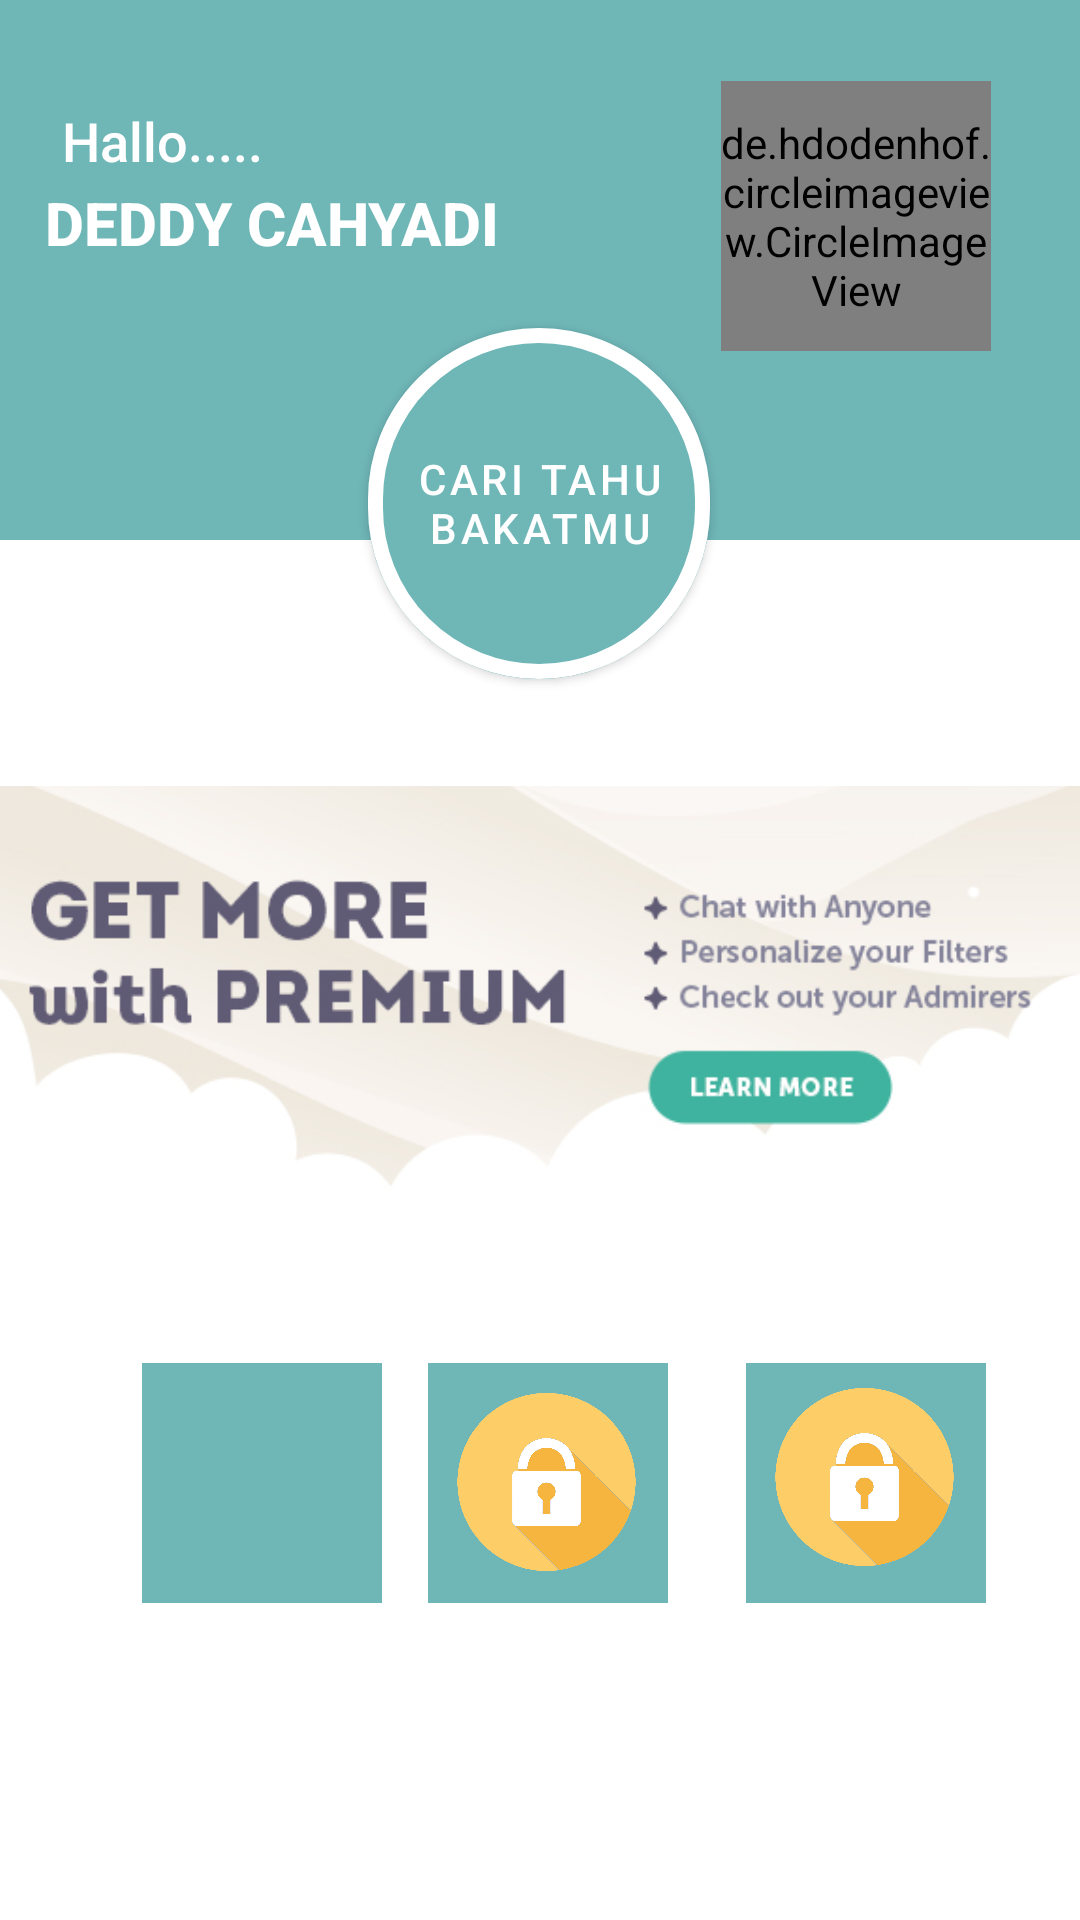

Icon click points for this 1080*1920 phone screenshot, format (x=x, y=y):
locked: (x=866, y=1477), (x=546, y=1482)
